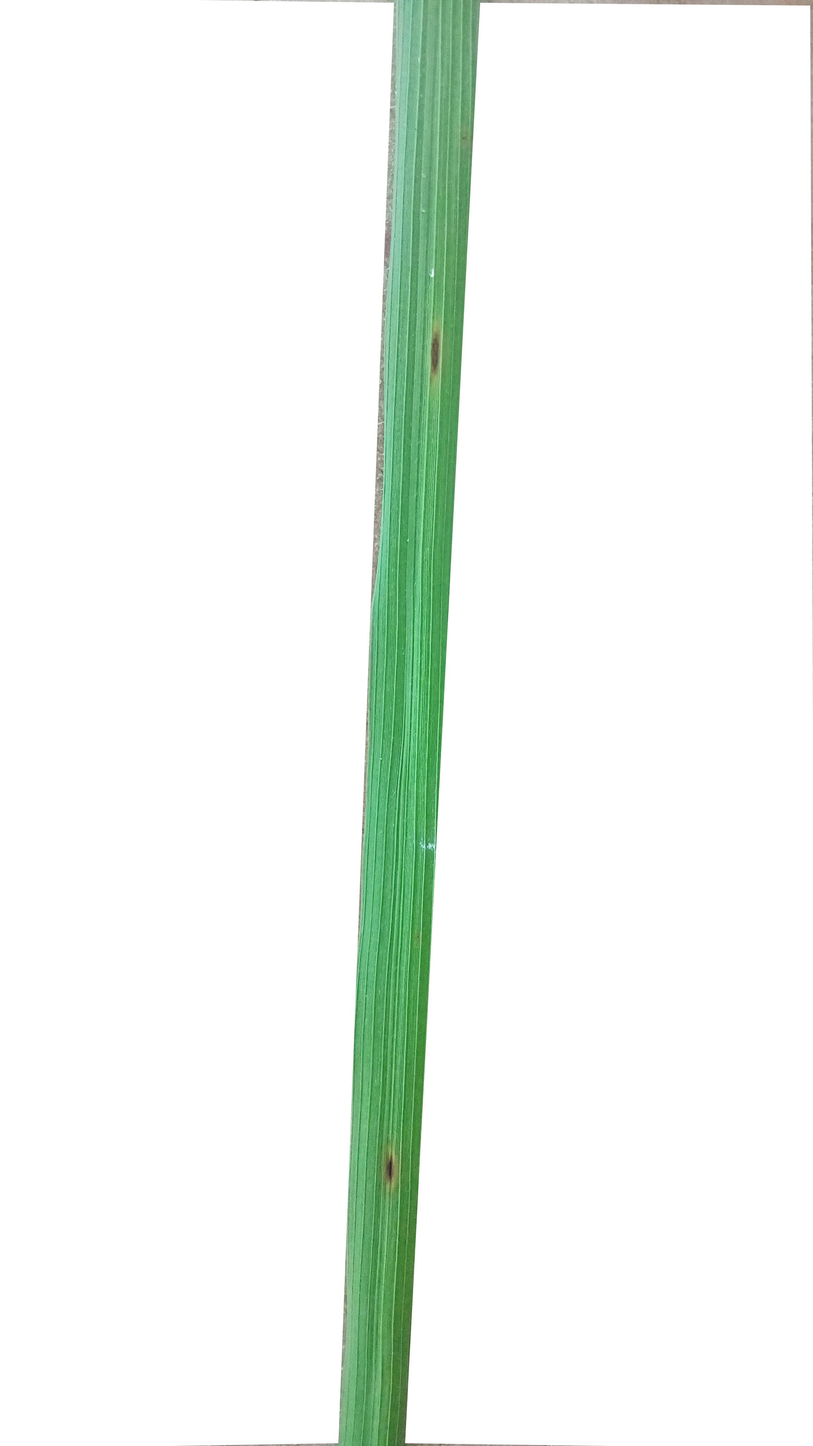Brown spot: (383, 1138, 402, 1203), (427, 316, 445, 384)
